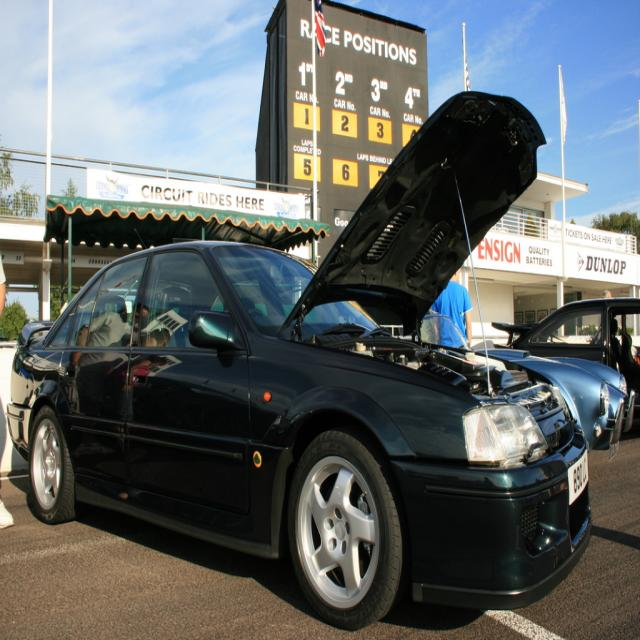other: (6, 93, 592, 631), (488, 338, 639, 458), (490, 294, 640, 412)
